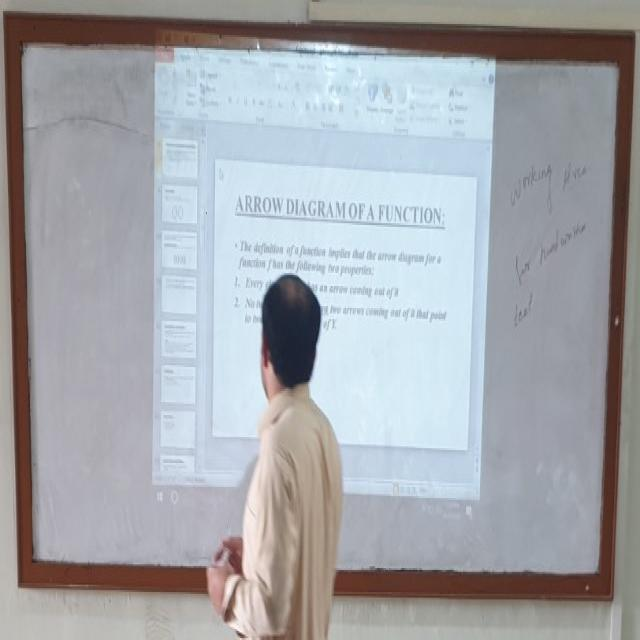Instructor: (223, 262, 346, 640)
Slide: (152, 25, 497, 523)
White-board: (17, 25, 624, 585)
